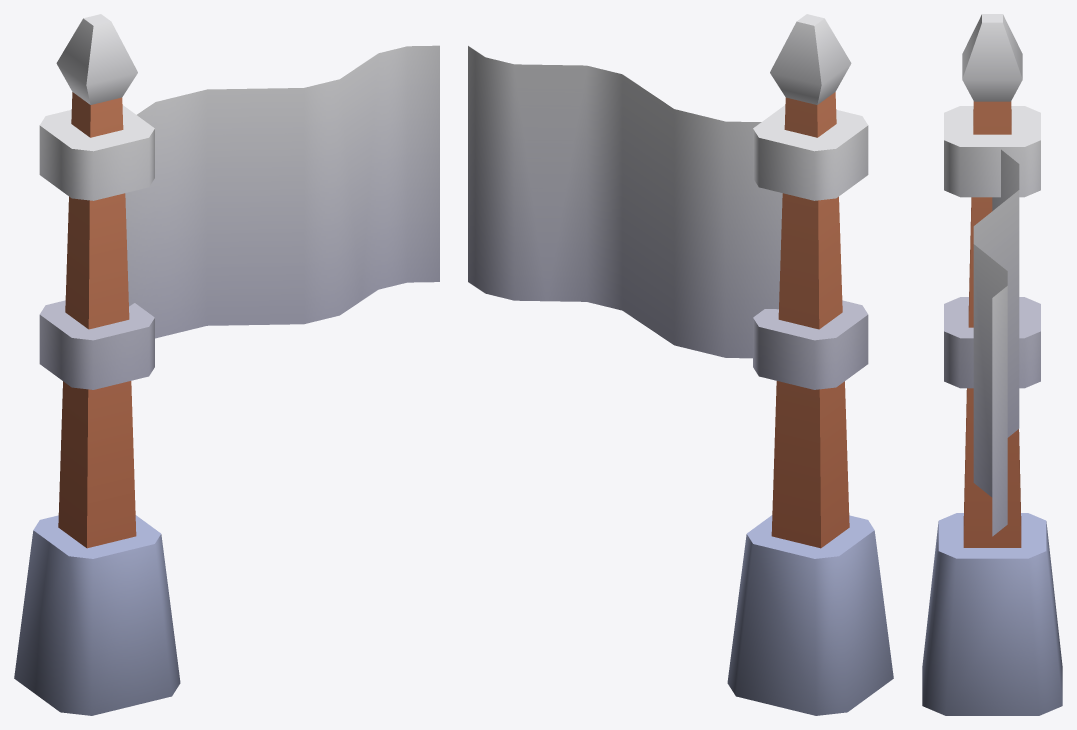
Rendered from TrailMarker.glb.
3 views of the same model, side by side, from view 1: azimuth 30°, elevation 25°; view 2: azimuth 150°, elevation 25°; view 3: azimuth 270°, elevation 25° (orthographic).
Visible parts, largest first — view 1: flag; view 2: flag; view 3: flag.
Boxes of the visible parts, left/top/right/bottom form: flag: left=14, top=14, right=439, bottom=715; flag: left=468, top=14, right=893, bottom=715; flag: left=922, top=14, right=1062, bottom=715.
Bounding box in the file's own units: 1.34 × 2.1 × 0.3988.
1 material, 1 textured.
